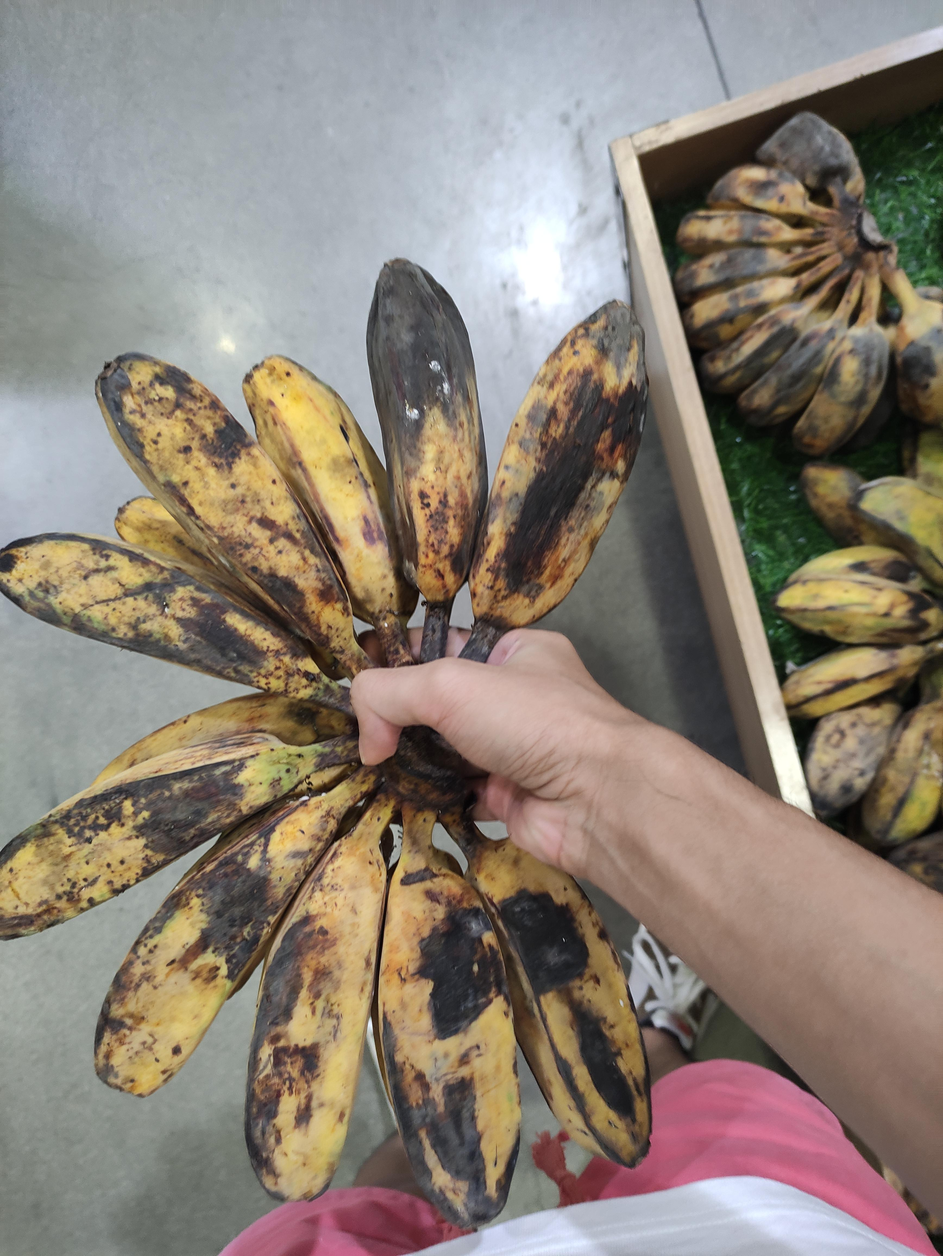ripe: (0, 696, 650, 1226), (2, 259, 647, 705), (672, 112, 943, 457)
underripe: (776, 421, 943, 847)
